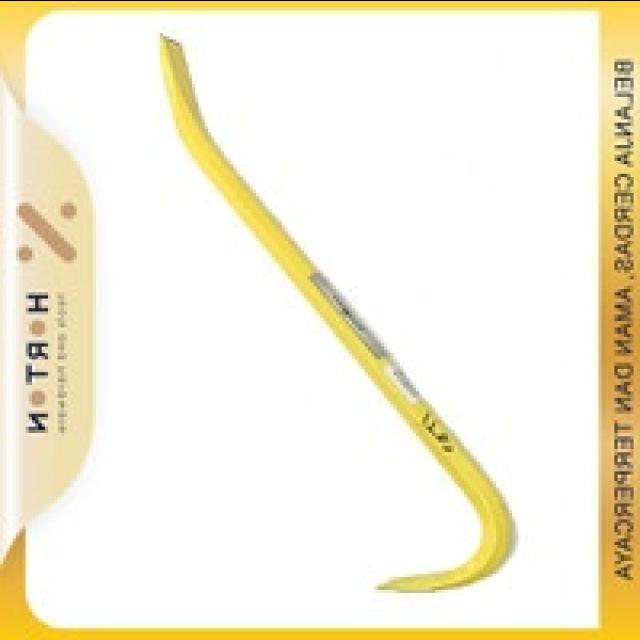Linggis: (153, 34, 519, 596)
